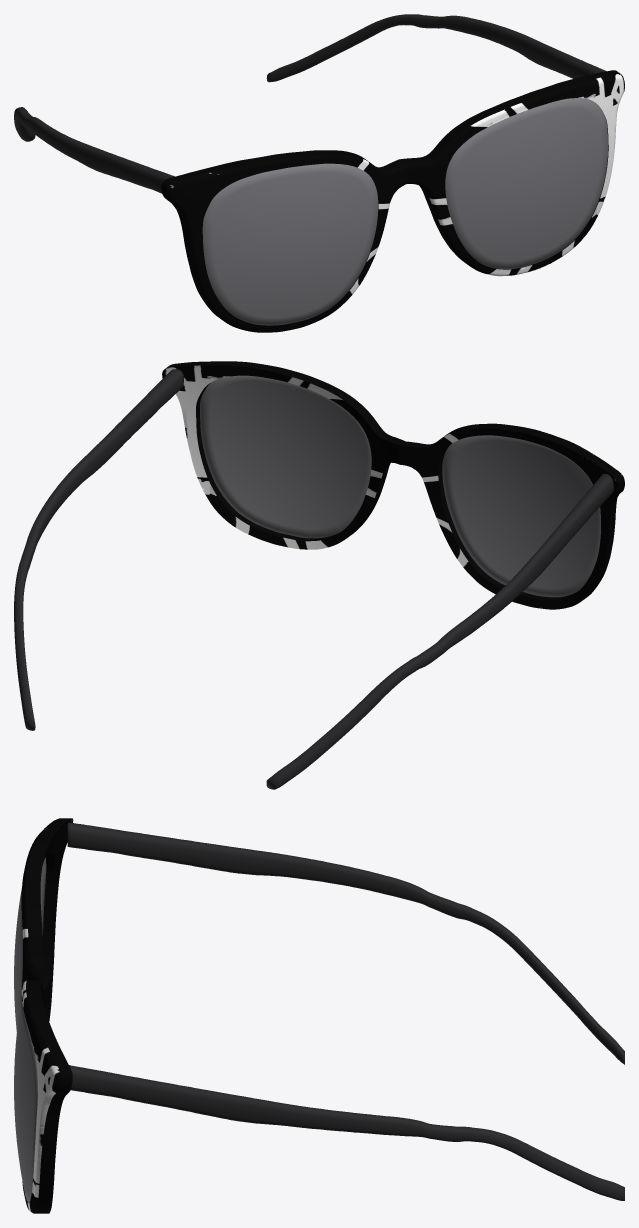
3 renders of one model, top to bottom at view 1: azimuth 30°, elevation 25°; view 2: azimuth 150°, elevation 25°; view 3: azimuth 270°, elevation 25°, orthographic. The views are drawn at different scales.
Visible parts, largest first — view 1: Lens_L, Lens_R, Front, Temple_R, Temple_L; view 2: Lens_R, Lens_L, Front, Temple_L, Temple_R; view 3: Temple_L, Temple_R, Front, Lens_R, Lens_L.
Part boxes in pixels (x1,y1,x2,y2): Lens_L: (202, 163, 378, 325); Lens_R: (445, 98, 608, 269); Front: (161, 70, 624, 332); Temple_R: (266, 14, 606, 82); Temple_L: (14, 107, 174, 193); Lens_R: (200, 375, 371, 538); Lens_L: (442, 435, 600, 597); Front: (162, 361, 624, 609); Temple_L: (266, 473, 613, 789); Temple_R: (14, 369, 183, 730); Temple_L: (67, 822, 624, 1064); Temple_R: (69, 1065, 624, 1200); Front: (21, 818, 73, 1213); Lens_R: (14, 999, 37, 1202); Lens_L: (14, 857, 46, 1031).
Size of the model in its own units: 0.1493 by 0.0539 by 0.1496.
Materials: 4 (1 with a texture image).
